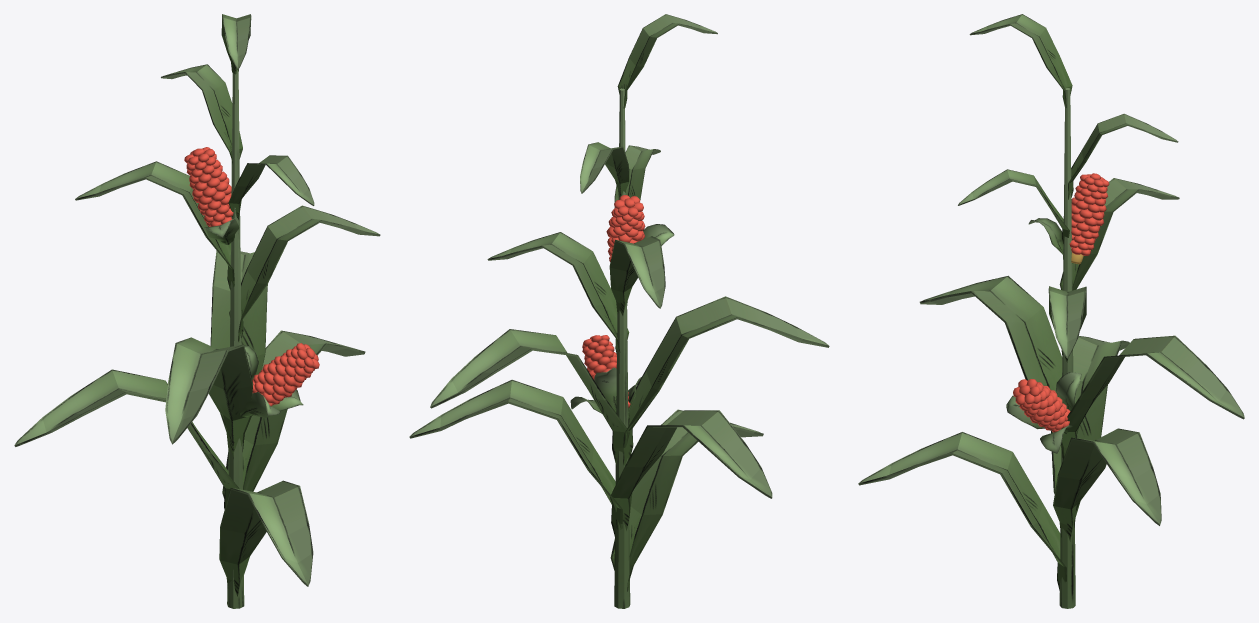
Rendered from Corn_crop.fbx.
3 renders of one model, left to right at view 1: azimuth 30°, elevation 25°; view 2: azimuth 150°, elevation 25°; view 3: azimuth 270°, elevation 25°, orthographic. The views are drawn at different scales.
Visible parts, largest first — view 1: Hoja.004, Hoja.006, Hoja.005, Hoja.001, Hoja, Hoja1.002, Hoja.003, Hoja1.001, Cube, Hoja.007, Hoja.008, Hoja.002 (+1 smaller); view 2: Hoja.005, Hoja.006, Hoja, Hoja.003, Hoja.004, Hoja.001, Cube, Hoja.007, Hoja1.002, Hoja1.001, Hoja.009, Hoja.008 (+1 smaller); view 3: Hoja, Hoja.006, Hoja.004, Hoja.003, Hoja1.002, Hoja1.001, Cube, Hoja.005, Hoja.001, Hoja.007, Hoja.009, Hoja.008 (+1 smaller).
Boxes of the visible parts, <box> form: Hoja.004: <box>219,480,313,596</box>; Hoja.006: <box>165,337,253,456</box>; Hoja.005: <box>14,369,239,509</box>; Hoja.001: <box>229,205,380,342</box>; Hoja: <box>222,330,365,498</box>; Hoja1.002: <box>239,343,319,417</box>; Hoja.003: <box>210,250,267,451</box>; Hoja1.001: <box>184,147,239,244</box>; Cube: <box>227,70,244,608</box>; Hoja.007: <box>75,161,234,289</box>; Hoja.008: <box>161,64,242,164</box>; Hoja.002: <box>228,155,314,219</box>; Hoja.005: <box>610,410,772,530</box>; Hoja.006: <box>623,296,829,465</box>; Hoja: <box>409,379,622,536</box>; Hoja.003: <box>430,329,629,465</box>; Hoja.004: <box>610,409,763,591</box>; Hoja.001: <box>487,232,629,354</box>; Cube: <box>614,88,630,608</box>; Hoja.007: <box>609,236,665,315</box>; Hoja1.002: <box>570,335,641,419</box>; Hoja1.001: <box>606,195,674,261</box>; Hoja.009: <box>617,14,717,108</box>; Hoja.008: <box>580,142,629,197</box>; Hoja: <box>1053,428,1161,541</box>; Hoja.006: <box>919,275,1079,457</box>; Hoja.004: <box>858,432,1066,591</box>; Hoja.003: <box>1061,335,1244,459</box>; Hoja1.002: <box>1006,372,1081,453</box>; Hoja1.001: <box>1028,173,1109,264</box>; Cube: <box>1059,88,1075,608</box>; Hoja.005: <box>1051,336,1129,527</box>; Hoja.001: <box>1048,286,1086,362</box>; Hoja.007: <box>1059,178,1179,290</box>; Hoja.009: <box>969,14,1072,107</box>; Hoja.008: <box>1068,113,1178,199</box>.
Bounding box in the file's own units: 147 × 234 × 143.
3 materials, 1 textured.
